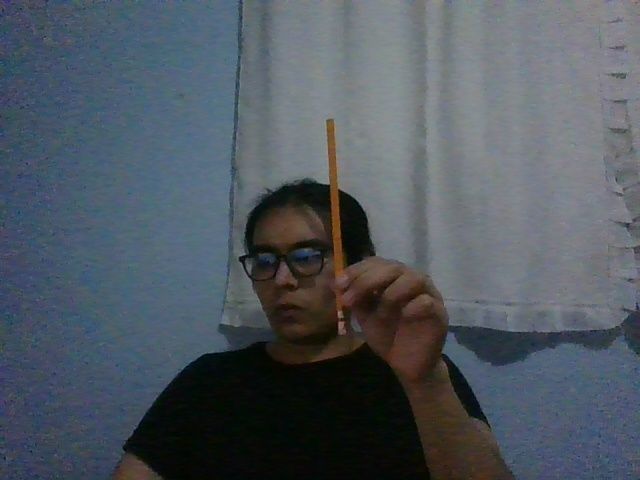lapiz: (324, 117, 347, 336)
